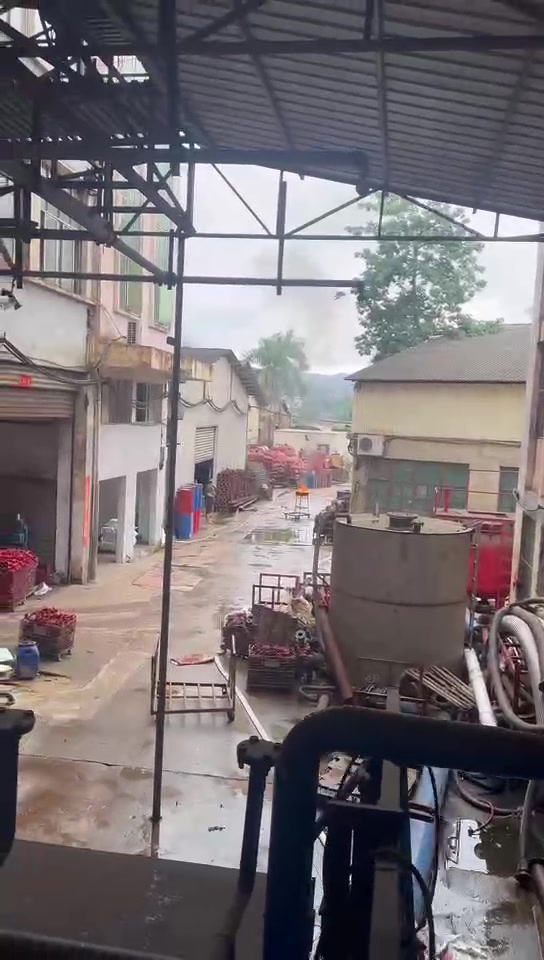fire: (297, 480, 308, 492)
